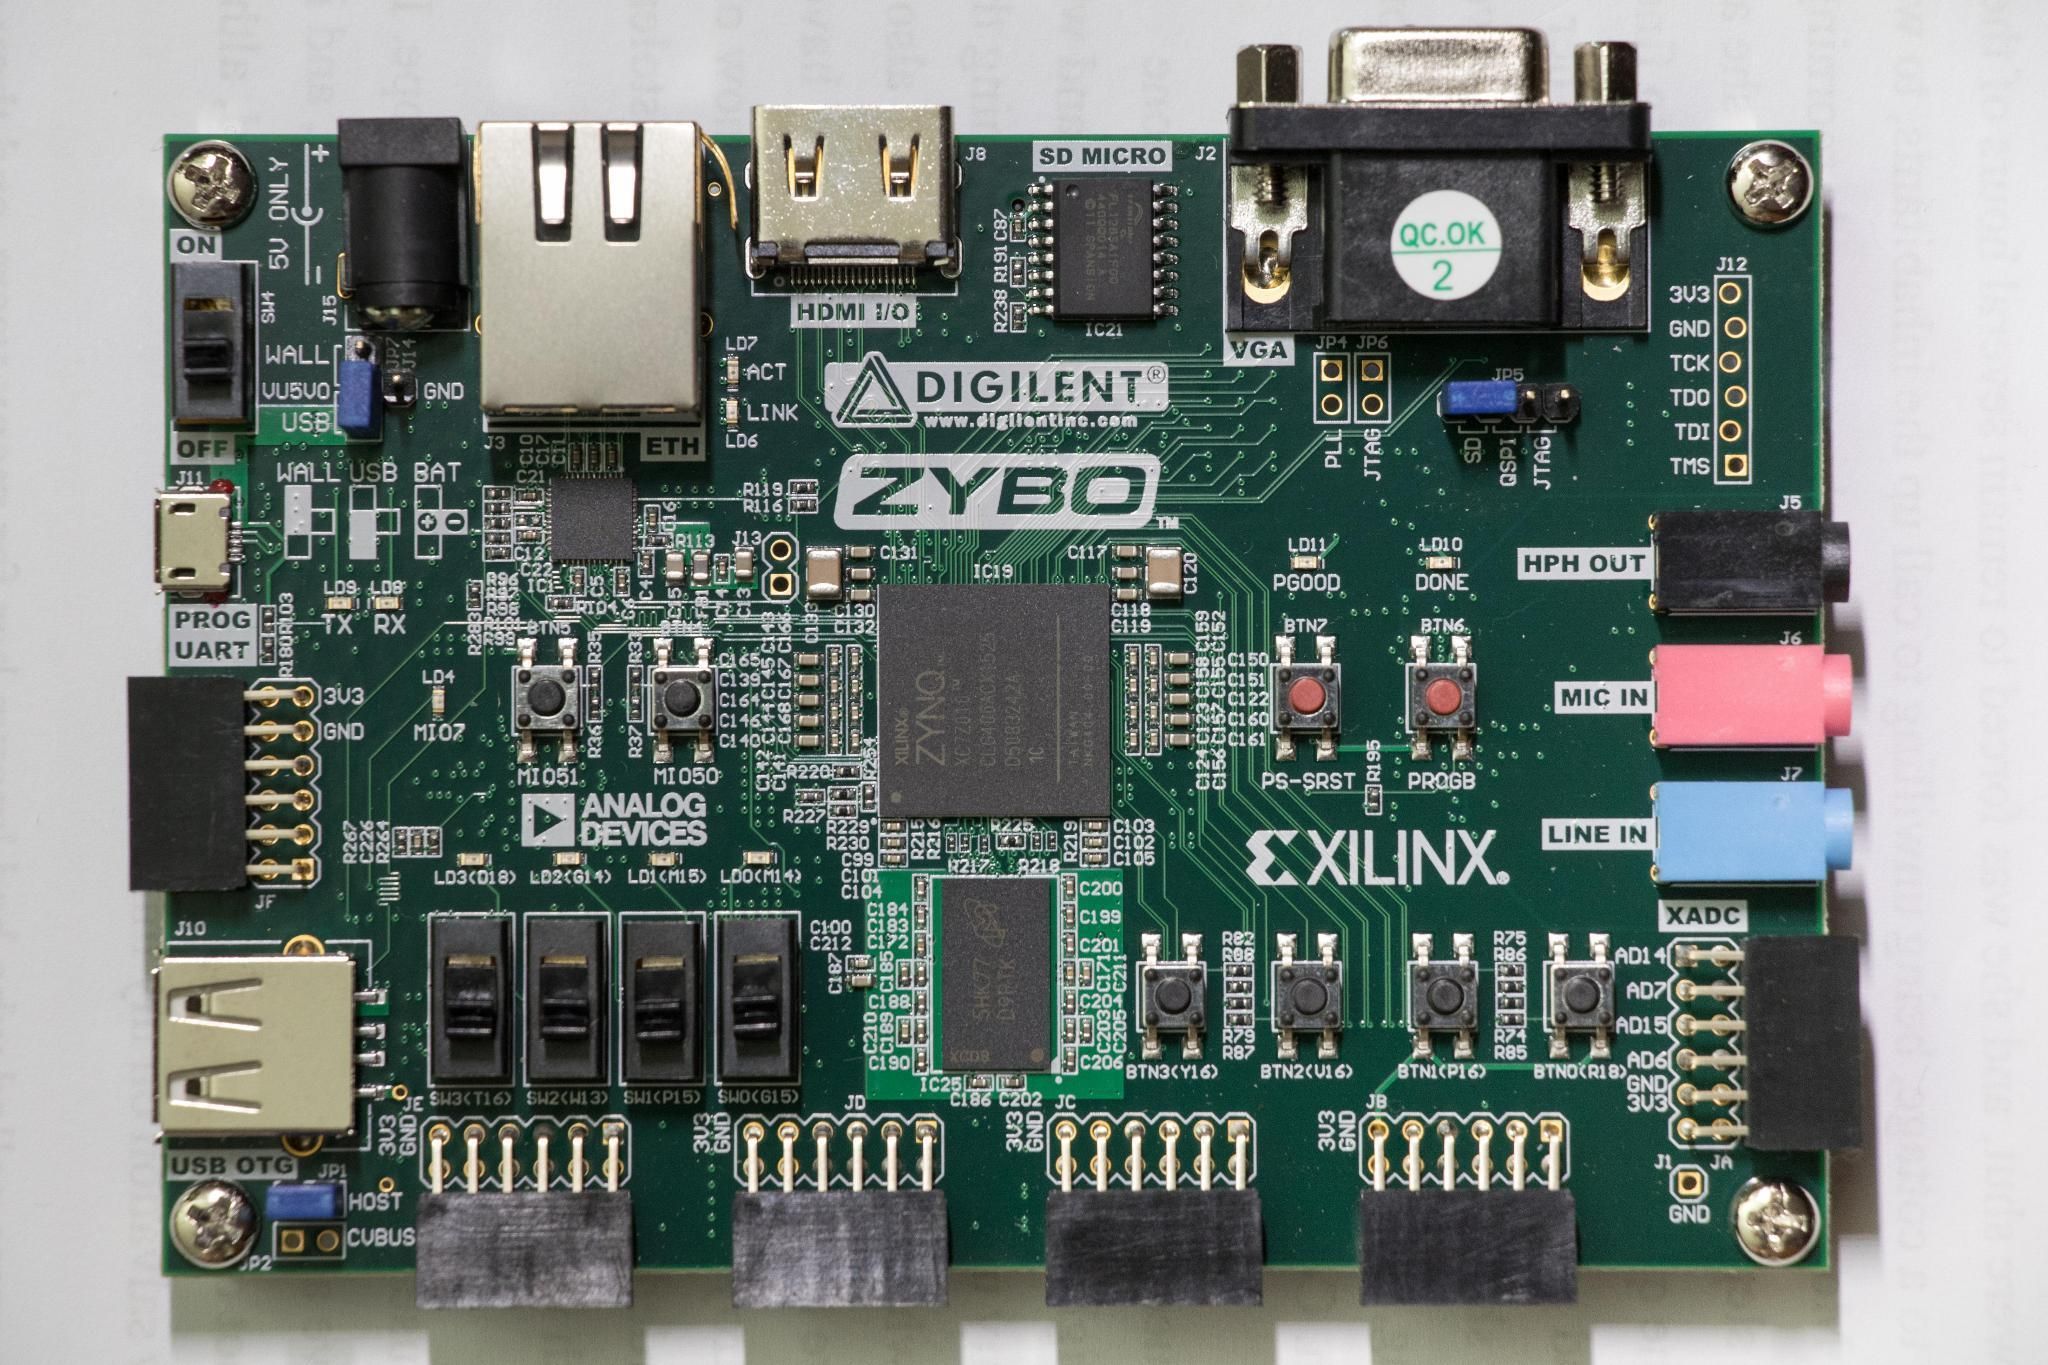Button: (1271, 932, 1341, 1060), (1408, 935, 1479, 1059), (1546, 935, 1616, 1059), (1137, 932, 1204, 1060), (1271, 635, 1340, 760), (1408, 637, 1475, 763), (652, 637, 719, 763), (515, 638, 582, 765)
Capacitor: (1147, 545, 1182, 602), (805, 548, 842, 599), (665, 548, 687, 587), (735, 547, 755, 583), (410, 827, 426, 859), (847, 955, 876, 973), (1061, 1016, 1078, 1047), (845, 545, 877, 561), (793, 734, 825, 750), (714, 555, 731, 583), (614, 567, 630, 596), (1081, 835, 1110, 852), (880, 852, 909, 868), (897, 1016, 914, 1045), (1061, 1047, 1078, 1076), (605, 440, 620, 471), (1112, 588, 1142, 603), (795, 673, 825, 689), (795, 693, 825, 708), (795, 714, 825, 730), (1165, 733, 1195, 748), (1080, 958, 1095, 989), (964, 1076, 994, 1091), (1011, 213, 1026, 244), (569, 568, 586, 596), (914, 874, 930, 902), (897, 960, 914, 987), (1061, 989, 1078, 1016), (588, 443, 603, 472), (569, 443, 585, 472), (515, 489, 544, 504), (646, 506, 661, 535), (1127, 699, 1142, 728), (914, 902, 929, 931), (915, 960, 930, 989), (847, 973, 876, 989), (915, 1047, 930, 1076), (793, 654, 825, 667), (640, 550, 655, 577), (847, 567, 877, 580), (1125, 644, 1140, 672), (1165, 652, 1195, 666), (848, 646, 863, 673), (848, 701, 863, 728), (847, 728, 862, 756), (1125, 728, 1140, 756), (1080, 820, 1110, 833), (880, 836, 908, 852), (1080, 852, 1110, 865), (1061, 874, 1077, 902), (1061, 932, 1077, 960), (914, 932, 929, 960), (915, 989, 930, 1016), (1080, 1015, 1093, 1045), (1163, 673, 1197, 686), (515, 529, 544, 542), (1115, 545, 1144, 559), (997, 1076, 1026, 1089), (845, 590, 877, 602), (828, 646, 842, 673), (1147, 646, 1160, 673), (1147, 672, 1160, 699), (1147, 727, 1160, 754), (828, 728, 842, 756), (880, 820, 908, 833), (1063, 961, 1077, 989), (917, 1018, 930, 1045), (1112, 567, 1142, 579), (1165, 714, 1195, 727), (1127, 673, 1140, 699), (1147, 701, 1160, 727), (1063, 903, 1077, 929), (850, 673, 862, 702), (830, 699, 842, 728), (1165, 695, 1195, 705), (830, 675, 841, 699)
Connector: (1226, 27, 1651, 334), (477, 117, 705, 430), (152, 943, 375, 1150), (1357, 1111, 1579, 1306), (1666, 935, 1864, 1152), (1046, 1112, 1264, 1309), (129, 672, 324, 890), (735, 1114, 950, 1309), (419, 1117, 633, 1310), (752, 102, 959, 294), (341, 116, 471, 334), (1654, 782, 1855, 885), (1654, 643, 1852, 748), (1654, 507, 1849, 612), (151, 487, 241, 596), (1715, 277, 1751, 484), (761, 532, 799, 603), (1314, 350, 1351, 424), (273, 1223, 346, 1260), (1517, 382, 1581, 424), (1357, 352, 1392, 424), (384, 367, 419, 408), (343, 335, 381, 363)
Ferrite Bead: (691, 550, 713, 587)
IC: (877, 583, 1112, 818), (930, 876, 1061, 1072), (1029, 178, 1179, 320), (548, 475, 636, 562)
Jumper: (335, 363, 384, 442), (1437, 381, 1517, 420), (266, 1184, 349, 1220)
Led: (726, 353, 742, 393), (649, 852, 684, 868), (1424, 556, 1460, 571), (743, 852, 780, 867), (324, 596, 359, 611), (432, 687, 448, 721), (554, 853, 588, 868), (1290, 558, 1325, 571), (455, 855, 490, 868), (726, 398, 740, 430), (372, 597, 405, 609)
Pads: (516, 513, 544, 529)
Resistor Network: (260, 635, 279, 666), (1011, 303, 1029, 334), (1011, 257, 1028, 289), (789, 480, 819, 497), (831, 763, 862, 780), (996, 833, 1026, 850), (1497, 1012, 1527, 1028), (643, 535, 675, 550), (426, 826, 442, 858), (627, 692, 644, 721), (1366, 785, 1383, 814), (393, 829, 410, 858), (1497, 963, 1526, 980), (1226, 978, 1255, 995), (790, 498, 821, 513), (483, 545, 513, 561), (827, 788, 857, 803), (1495, 996, 1526, 1012), (260, 606, 276, 635), (588, 666, 603, 695), (588, 695, 603, 724), (796, 789, 825, 804), (828, 804, 857, 820), (1226, 996, 1255, 1012), (1495, 980, 1527, 993), (484, 516, 512, 532), (467, 582, 483, 609), (1224, 964, 1255, 978), (547, 597, 576, 611), (863, 782, 877, 810), (1226, 1012, 1255, 1025), (486, 486, 512, 501), (486, 532, 513, 545), (629, 666, 643, 692), (484, 503, 512, 515), (959, 832, 971, 853), (1048, 832, 1058, 852), (979, 835, 990, 855), (1032, 832, 1042, 850), (949, 833, 956, 852)
Switch: (429, 914, 518, 1089), (167, 262, 257, 434), (717, 913, 802, 1085), (621, 916, 707, 1085), (527, 914, 611, 1086)
Test Point: (1670, 1164, 1711, 1204)
